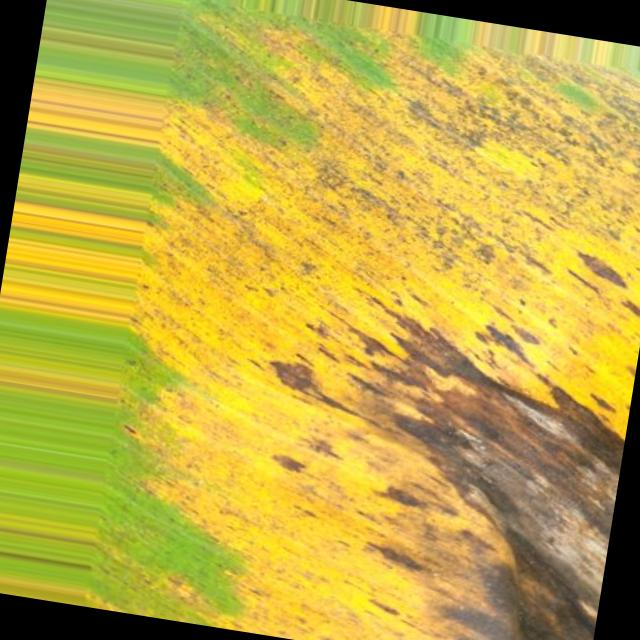Banana_Black_Sigatoka: (168, 246, 640, 640), (216, 29, 640, 259)
